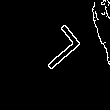L_SW: (25, 22, 82, 79)
